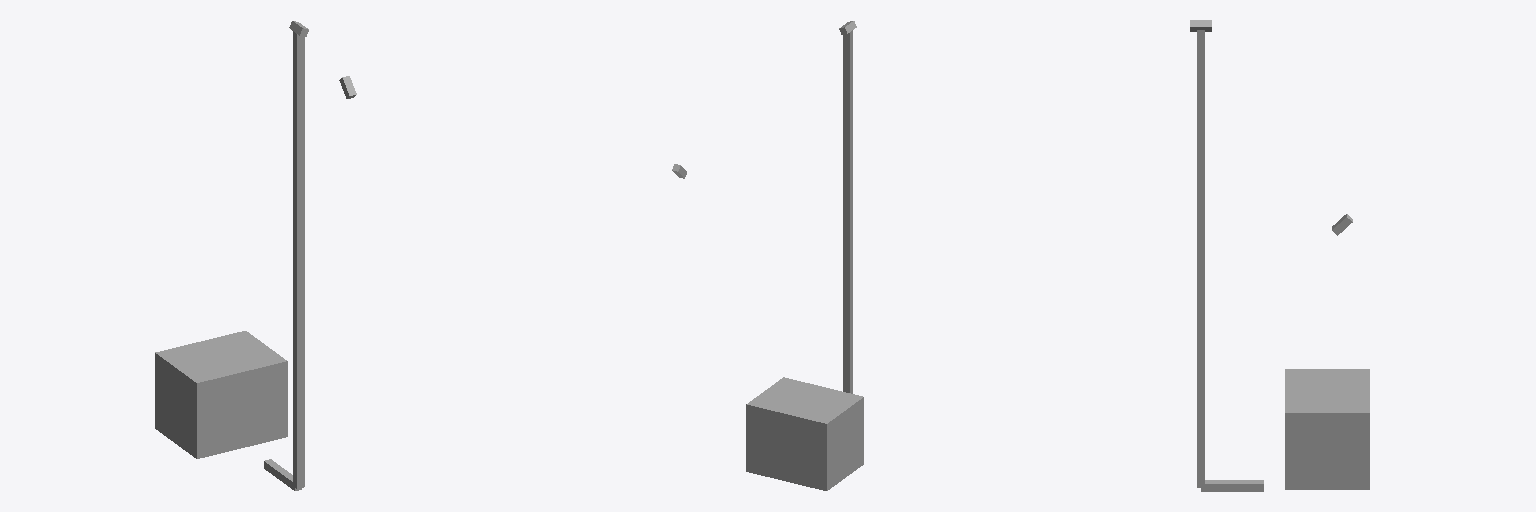
robot.urdf — mobile_franka_panda:
<?xml version="1.0" ?>
<!-- =================================================================================== -->
<!-- |    This document was autogenerated by xacro from [local-path]/Projects/ros_ws/src/franka_description/robots/mobile_franka_panda.urdf.xacro | -->
<!-- |    EDITING THIS FILE BY HAND IS NOT RECOMMENDED                                 | -->
<!-- =================================================================================== -->
<robot name="mobile_franka_panda">
    <link name="agv_world_base" />
    <joint name="agv_world_base_joint" type="fixed">
        <origin rpy="0 0 0" xyz="0 0 0.26" />
        <parent link="agv_world_base" />
        <child link="agv_basex" />
    </joint>
    <link name="agv_base">
        <visual>
            <origin xyz="0 0 -0.26" />
            <geometry>
                <mesh filename="../franka_description/meshes/movable_base/base_link.dae" scale="0.8 0.8 0.8" />
            </geometry>
        </visual>
        <collision>
            <origin xyz="0 0 -0.26" />
            <geometry>
                <mesh filename="../franka_description/meshes/movable_base/base_link.dae" scale="0.8 0.8 0.8" />
            </geometry>
        </collision>
        <inertial>
            <mass value="0.1" />
            <origin xyz="0 0 0" rpy="0 0 0" />
            <inertia ixx="0.03" iyy="0.03" izz="0.03" ixy="0.0" ixz="0.0" iyz="0.0" />
        </inertial>
    </link>
    <link name="agv_basex" />
    <link name="agv_basey" />
    <link name="agv_basez" />
    <joint name="agv_base_slider_x" type="prismatic">
        <origin rpy="0 0 0" xyz="0 0 -0.01" />
        <parent link="agv_basex" />
        <child link="agv_basey" />
        <axis xyz="1 0 0" />
        <dynamics damping="10.0" />
        <limit effort="100000" lower="-0.2" upper="0.8" velocity="1" />
    </joint>
    <joint name="agv_base_slider_y" type="prismatic">
        <origin rpy="0 0 0" xyz="0 0 0" />
        <parent link="agv_basey" />
        <child link="agv_basez" />
        <axis xyz="0 1 0" />
        <dynamics damping="10.0" />
        <limit effort="100000" lower="-0.8" upper="0.8" velocity="1" />
    </joint>
    <joint name="agv_base_rotate_z" type="revolute">
        <origin rpy="0 0 0" xyz="0 0 0" />
        <parent link="agv_basez" />
        <child link="agv_base" />
        <axis xyz="0 0 1" />
        <dynamics damping="10.0" />
        <limit effort="100000" lower="-3.1415926" upper="1.5707" velocity="0.5" />
    </joint>
    <link name="agv_pos_link" />
    <joint name="agv_pos_joint" type="fixed">
        <origin rpy="0 0 0" xyz="0 0 -0.26" />
        <parent link="agv_base" />
        <child link="agv_pos_link" />
    </joint>
    <link name="agv_arm_base_link">
        <visual>
            <origin xyz="-0.05 0 0" rpy="0 0 0"/>
            <geometry>
                <box size="0.25 0.2 0.2"/>
            </geometry>
            <material name="gray">
                <color rgba="0.7 0.7 0.7 1"/>
            </material>
        </visual>
        <collision>
            <origin xyz="-0.05 0 0" rpy="0 0 0"/>
            <geometry>
                <box size="0.25 0.2 0.2"/>
            </geometry>
        </collision>
    </link>
    <joint name="agv_arm_base_joint" type="fixed">
        <origin rpy="0 0 0" xyz="0 0 0.13" />
        <parent link="agv_base" />
        <child link="agv_arm_base_link" />
    </joint>
    <joint name="panda_joint_agv_arm_base_link" type="fixed">
        <parent link="agv_arm_base_link" />
        <child link="panda_link0" />
        <origin rpy="0 0 0" xyz="0 0 0.1" />
    </joint>
    <link name="panda_link0">
        <visual>
            <geometry>
                <mesh filename="../franka_description/meshes/visual/link0.dae" />
            </geometry>
        </visual>
        <collision>
            <geometry>
                <mesh filename="../franka_description/meshes/collision/link0.stl" />
            </geometry>
        </collision>
        <inertial>
            <origin rpy="0 0 0" xyz="0 0 0" />
            <mass value="2.8142028896" />
            <inertia ixx="0.0129886979" ixy="0.0" ixz="0.0" iyy="0.0165355284" iyz="0" izz="0.0203311636" />
        </inertial>
    </link>
    <link name="panda_link1">
        <visual>
            <geometry>
                <mesh filename="../franka_description/meshes/visual/link1.dae" />
            </geometry>
        </visual>
        <collision>
            <geometry>
                <mesh filename="../franka_description/meshes/collision/link1.stl" />
            </geometry>
        </collision>
        <inertial>
            <origin rpy="0 0 0" xyz="0 0 0" />
            <mass value="2.3599995791" />
            <inertia ixx="0.0186863903" ixy="0.0" ixz="0.0" iyy="0.0143789874" iyz="0" izz="0.00906812" />
        </inertial>
    </link>
    <joint name="panda_joint1" type="revolute">
        <safety_controller k_position="100.0" k_velocity="40.0" soft_lower_limit="-2.8973" soft_upper_limit="2.8973" />
        <origin rpy="0 0 0" xyz="0 0 0.333" />
        <parent link="panda_link0" />
        <child link="panda_link1" />
        <axis xyz="0 0 1" />
        <limit effort="87" lower="-2.8973" upper="2.8973" velocity="0.5" />
    </joint>
    <link name="panda_link2">
        <visual>
            <geometry>
                <mesh filename="../franka_description/meshes/visual/link2.dae" />
            </geometry>
        </visual>
        <collision>
            <geometry>
                <mesh filename="../franka_description/meshes/collision/link2.stl" />
            </geometry>
        </collision>
        <inertial>
            <origin rpy="0 0 0" xyz="0 0 0" />
            <mass value="2.379518833" />
            <inertia ixx="0.0190388734" ixy="0.0" ixz="0.0" iyy="0.0091429124" iyz="0" izz="0.014697537" />
        </inertial>
    </link>
    <joint name="panda_joint2" type="revolute">
        <safety_controller k_position="100.0" k_velocity="40.0" soft_lower_limit="-1.7628" soft_upper_limit="1.7628" />
        <origin rpy="-1.5707963267948966 0 0" xyz="0 0 0" />
        <parent link="panda_link1" />
        <child link="panda_link2" />
        <axis xyz="0 0 1" />
        <limit effort="87" lower="-1.7628" upper="1.7628" velocity="0.5" />
    </joint>
    <link name="panda_link3">
        <visual>
            <geometry>
                <mesh filename="../franka_description/meshes/visual/link3.dae" />
            </geometry>
        </visual>
        <collision>
            <geometry>
                <mesh filename="../franka_description/meshes/collision/link3.stl" />
            </geometry>
        </collision>
        <inertial>
            <origin rpy="0 0 0" xyz="0 0 0" />
            <mass value="2.6498823337" />
            <inertia ixx="0.0129300178" ixy="0.0" ixz="0.0" iyy="0.0150242121" iyz="0" izz="0.0142734598" />
        </inertial>
    </link>
    <joint name="panda_joint3" type="revolute">
        <safety_controller k_position="100.0" k_velocity="40.0" soft_lower_limit="-2.8973" soft_upper_limit="2.8973" />
        <origin rpy="1.5707963267948966 0 0" xyz="0 -0.316 0" />
        <parent link="panda_link2" />
        <child link="panda_link3" />
        <axis xyz="0 0 1" />
        <limit effort="87" lower="-2.8973" upper="2.8973" velocity="0.5" />
    </joint>
    <link name="panda_link4">
        <visual>
            <geometry>
                <mesh filename="../franka_description/meshes/visual/link4.dae" />
            </geometry>
        </visual>
        <collision>
            <geometry>
                <mesh filename="../franka_description/meshes/collision/link4.stl" />
            </geometry>
        </collision>
        <inertial>
            <origin rpy="0 0 0" xyz="0 0 0" />
            <mass value="2.6948018744" />
            <inertia ixx="0.0133874611" ixy="0.0" ixz="0.0" iyy="0.014514325" iyz="0" izz="0.0155175551" />
        </inertial>
    </link>
    <joint name="panda_joint4" type="revolute">
        <safety_controller k_position="100.0" k_velocity="40.0" soft_lower_limit="-3.0718" soft_upper_limit="-0.0698" />
        <origin rpy="1.5707963267948966 0 0" xyz="0.0825 0 0" />
        <parent link="panda_link3" />
        <child link="panda_link4" />
        <axis xyz="0 0 1" />
        <limit effort="87" lower="-3.0718" upper="-0.0698" velocity="0.5" />
    </joint>
    <link name="panda_link5">
        <visual>
            <geometry>
                <mesh filename="../franka_description/meshes/visual/link5.dae" />
            </geometry>
        </visual>
        <collision>
            <geometry>
                <mesh filename="../franka_description/meshes/collision/link5.stl" />
            </geometry>
        </collision>
        <inertial>
            <origin rpy="0 0 0" xyz="0 0 0" />
            <mass value="2.9812816864" />
            <inertia ixx="0.0325565705" ixy="0.0" ixz="0.0" iyy="0.0270660472" iyz="0" izz="0.0115023375" />
        </inertial>
    </link>
    <joint name="panda_joint5" type="revolute">
        <safety_controller k_position="100.0" k_velocity="40.0" soft_lower_limit="-2.8973" soft_upper_limit="2.8973" />
        <origin rpy="-1.5707963267948966 0 0" xyz="-0.0825 0.384 0" />
        <parent link="panda_link4" />
        <child link="panda_link5" />
        <axis xyz="0 0 1" />
        <limit effort="12" lower="-2.8973" upper="2.8973" velocity="0.5" />
    </joint>
    <link name="panda_link6">
        <visual>
            <geometry>
                <mesh filename="../franka_description/meshes/visual/link6.dae" />
            </geometry>
        </visual>
        <collision>
            <geometry>
                <mesh filename="../franka_description/meshes/collision/link6.stl" />
            </geometry>
        </collision>
        <inertial>
            <origin rpy="0 0 0" xyz="0 0 0" />
            <mass value="1.1285806309" />
            <inertia ixx="0.0026052565" ixy="0.0" ixz="0.0" iyy="0.0039897229" iyz="0" izz="0.0047048591" />
        </inertial>
    </link>
    <joint name="panda_joint6" type="revolute">
        <safety_controller k_position="100.0" k_velocity="40.0" soft_lower_limit="-0.0175" soft_upper_limit="3.7525" />
        <origin rpy="1.5707963267948966 0 0" xyz="0 0 0" />
        <parent link="panda_link5" />
        <child link="panda_link6" />
        <axis xyz="0 0 1" />
        <limit effort="12" lower="-0.0175" upper="3.7525" velocity="0.5" />
    </joint>
    <link name="panda_link7">
        <visual>
            <geometry>
                <mesh filename="../franka_description/meshes/visual/link7.dae" />
            </geometry>
        </visual>
        <collision>
            <geometry>
                <mesh filename="../franka_description/meshes/collision/link7.stl" />
            </geometry>
        </collision>
        <inertial>
            <origin rpy="0 0 0" xyz="0 0 0" />
            <mass value="0.4052912465" />
            <inertia ixx="0.0006316592" ixy="0.0" ixz="0.0" iyy="0.0006319639" iyz="0" izz="0.0010607721" />
        </inertial>
    </link>
    <joint name="panda_joint7" type="revolute">
        <safety_controller k_position="100.0" k_velocity="40.0" soft_lower_limit="-2.8973" soft_upper_limit="2.8973" />
        <origin rpy="1.5707963267948966 0 0" xyz="0.088 0 0" />
        <parent link="panda_link6" />
        <child link="panda_link7" />
        <axis xyz="0 0 1" />
        <limit effort="12" lower="-2.8973" upper="2.8973" velocity="0.5" />
    </joint>
    <link name="panda_link8" />
    <joint name="panda_joint8" type="fixed">
        <origin rpy="0 0 0" xyz="0 0 0.107" />
        <parent link="panda_link7" />
        <child link="panda_link8" />
        <axis xyz="0 0 0" />
    </joint>
    <joint name="panda_hand_joint" type="fixed">
        <parent link="panda_link8" />
        <child link="panda_hand" />
        <origin rpy="0 0 -0.7853981633974483" xyz="0 0 0" />
    </joint>
    <link name="panda_hand">
        <visual>
            <geometry>
                <mesh filename="../franka_description/meshes/visual/hand.dae" />
            </geometry>
        </visual>
        <collision>
            <geometry>
                <mesh filename="../franka_description/meshes/collision/hand.stl" />
            </geometry>
        </collision>
        <inertial>
            <origin rpy="0 0 0" xyz="0 0 0" />
            <mass value="0.5583304799" />
            <inertia ixx="0.0023394448" ixy="0.0" ixz="0.0" iyy="0.0005782786" iyz="0" izz="0.0021310296" />
        </inertial>
    </link>
    <link name="panda_leftfinger">
        <visual>
            <geometry>
                <!-- <mesh filename="../franka_description/meshes/visual/finger.dae" /> -->
                <mesh filename="../franka_description/meshes/visual/longer_finger_v2.obj" />
            </geometry>
        </visual>
        <collision>
            <geometry>
                <mesh filename="../franka_description/meshes/collision/longer_finger_v2.obj" />
            </geometry>
        </collision>
        <inertial>
            <origin rpy="0 0 0" xyz="0 0 0" />
            <mass value="0.0140552232" />
            <inertia ixx="4.20413082650939E-06" ixy="0.0" ixz="0.0" iyy="3.90263687466755E-06" iyz="0" izz="1.33474964199095E-06" />
        </inertial>
    </link>
    <link name="panda_rightfinger">
        <visual>
            <origin rpy="0 0 3.141592653589793" xyz="0 0 0" />
            <geometry>
                <mesh filename="../franka_description/meshes/visual/longer_finger_v2.obj" />
            </geometry>
        </visual>
        <collision>
            <origin rpy="0 0 3.141592653589793" xyz="0 0 0" />
            <geometry>
                <mesh filename="../franka_description/meshes/collision/longer_finger_v2.obj" />
            </geometry>
        </collision>
        <inertial>
            <origin rpy="0 0 0" xyz="0 0 0" />
            <mass value="0.0140552232" />
            <inertia ixx="4.20413082650939E-06" ixy="0.0" ixz="0.0" iyy="3.90263687466755E-06" iyz="0" izz="1.33474964199095E-06" />
        </inertial>
    </link>
    <joint name="panda_finger_joint1" type="prismatic">
        <parent link="panda_hand" />
        <child link="panda_leftfinger" />
        <origin rpy="0 0 0" xyz="0 0 0.0584" />
        <axis xyz="0 1 0" />
        <limit effort="20" lower="0.0" upper="0.04" velocity="0.02" />
    </joint>
    <joint name="panda_finger_joint2" type="prismatic">
        <parent link="panda_hand" />
        <child link="panda_rightfinger" />
        <origin rpy="0 0 0" xyz="0 0 0.0584" />
        <axis xyz="0 -1 0" />
        <limit effort="20" lower="0.0" upper="0.04" velocity="0.02" />
        <mimic joint="panda_finger_joint1" />
    </joint>
    <link name="panda_hand_tcp"/>
    <joint name="panda_hand_tcp_joint" type="fixed">
        <origin rpy="0 0 -1.5707" xyz="0 0 0.1334"/>
        <parent link="panda_hand"/>
        <child link="panda_hand_tcp"/>
    </joint>
    <joint name="joint_finger_tip_left" type="fixed">
        <origin xyz="0.0009 0.021 0.066" rpy="0 0 -1.57"/>
        <parent link="panda_leftfinger"/>
        <child link="finger_left_tip"/>
        <axis xyz="1 0 0"/>
    </joint>
    <link name="finger_left_tip">
        <inertial>
            <mass value="0.001"/>
            <origin xyz="0 0 0"/>
            <inertia ixx="8.045110108333333e-08" ixy="0.0" ixz="0.0" iyy="5.3454052333333326e-08" iyz="0.0" izz="2.9755152750000002e-08"/>
        </inertial>
        <visual>
            <geometry>
                <mesh filename="../franka_description/meshes/visual/digit_gel_only.STL"/>
            </geometry>
            <material name="white">
                <color rgba="1. 1. 1. 1"/>
            </material>
        </visual>
        <collision>
            <geometry>
                <box size="0.004068 0.018453 0.054998"/>
            </geometry>
            <origin xyz="0.018102 0 0.002234"/>
        </collision>
    </link>
    <joint name="joint_finger_tip_right" type="fixed">
        <origin xyz="-0.0009 -0.021 0.066" rpy="0 0 1.57"/>
        <parent link="panda_rightfinger"/>
        <child link="finger_right_tip"/>
        <axis xyz="1 0 0"/>
    </joint>
    <link name="finger_right_tip">
        <inertial>
            <mass value="0.001"/>
            <origin xyz="0 0 0"/>
            <inertia ixx="8.045110108333333e-08" ixy="0.0" ixz="0.0" iyy="5.3454052333333326e-08" iyz="0.0" izz="2.9755152750000002e-08"/>
        </inertial>
        <visual>
            <geometry>
                <mesh filename="../franka_description/meshes/visual/digit_gel_only.STL"/>
            </geometry>
            <material name="white">
                <color rgba="1. 1. 1. 1"/>
            </material>
        </visual>
        <collision>
            <geometry>
                <box size="0.004068 0.018453 0.054998"/>
            </geometry>
            <origin xyz="0.018102 0 0.002234"/>
        </collision>
    </link>
    <joint name="camera_stand_joint" type="fixed">
        <origin xyz="0 -0.15 0.6" rpy="0 0 0"/>
        <parent link="agv_base"/>
        <child link="camera_stand_link"/>
    </joint>
    <link name="camera_stand_link">
        <visual>
            <origin xyz="-0.01 -0.15 0"/>
            <geometry>
                <box size="0.02 0.02 1.2"/>
            </geometry>
            <material name="gray">
                <color rgba="0.7 0.7 0.7 1"/>
            </material>
        </visual>
        <collision>
            <origin xyz="-0.01 -0.15 0"/>
            <geometry>
                <box size="0.02 0.02 1.2"/>
            </geometry>
        </collision>
        <visual>
            <origin xyz="-0.01 -0.075 -0.6"/>
            <geometry>
                <box size="0.02 0.15 0.02"/>
            </geometry>
            <material name="gray">
                <color rgba="0.7 0.7 0.7 1"/>
            </material>
        </visual>
        <collision>
            <origin xyz="-0.01 -0.075 -0.6"/>
            <geometry>
                <box size="0.02 0.15 0.02"/>
            </geometry>
        </collision>
    </link>
    <joint name="base_camera_joint" type="fixed">
        <parent link="agv_base"/>
        <child link="base_camera_link"/>
        <origin xyz="0 -0.3 1.2" rpy="0 0.43633 0"/>
    </joint>
    <link name="base_camera_link">
        <visual>
            <origin xyz="-0.01 0 0"/>
            <geometry>
                <box size="0.02 0.05 0.02"/>
            </geometry>
            <material name="gray">
                <color rgba="0.7 0.7 0.7 1"/>
            </material>
        </visual>
        <collision>
            <origin xyz="-0.01 0 0"/>
            <geometry>
                <box size="0.02 0.05 0.02"/>
            </geometry>
        </collision>
    </link>
    <joint name="gripper_camera_joint" type="fixed">
        <parent link="panda_hand"/>
        <child link="gripper_camera_link"/>
        <origin xyz="0.05 0 0.05" rpy="3.1415926 -1.5707963 0"/>
    </joint>
    <link name="gripper_camera_link">
        <visual>
            <origin xyz="-0.01 0 0"/>
            <geometry>
                <box size="0.02 0.05 0.02"/>
            </geometry>
            <material name="gray">
                <color rgba="0.7 0.7 0.7 1"/>
            </material>
        </visual>
        <collision>
            <origin xyz="-0.01 0 0"/>
            <geometry>
                <box size="0.02 0.05 0.02"/>
            </geometry>
        </collision>
    </link>
</robot>

--- Facts derived from the render (not from the file) ---
3 views of the same robot in one strip: view 1: azimuth 30°, elevation 25°; view 2: azimuth 150°, elevation 25°; view 3: azimuth 270°, elevation 25° (orthographic).
Model mobile_franka_panda with 25 links and 24 joints (8 revolute, 4 prismatic, 12 fixed), rooted at agv_world_base, posed joints at zero except 1 at the middle of their limits (panda_joint4 = -1.57).
Visible links, largest first — view 1: agv_arm_base_link, camera_stand_link; view 2: agv_arm_base_link, camera_stand_link; view 3: agv_arm_base_link, camera_stand_link.
Link boxes in pixels (x1,y1,x2,y2): agv_arm_base_link: (155,331,287,458); camera_stand_link: (264,31,304,490); agv_arm_base_link: (746,377,863,490); camera_stand_link: (843,30,852,393); agv_arm_base_link: (1285,369,1369,489); camera_stand_link: (1197,30,1263,491).
Bounding box of the posed robot: 0.5045 × 0.425 × 1.23 m (x, y, z).
0 mesh visuals loaded from 12 distinct referenced files (none loaded); not drawn: 14 (reference not matched to a file when rendering).